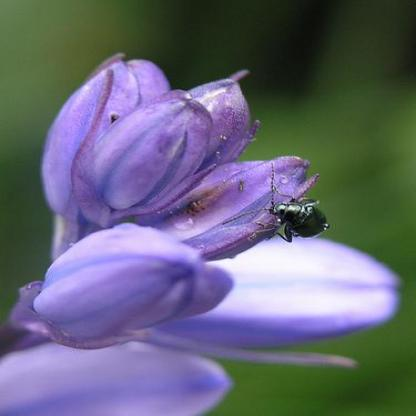beetle: (260, 180, 330, 250)
